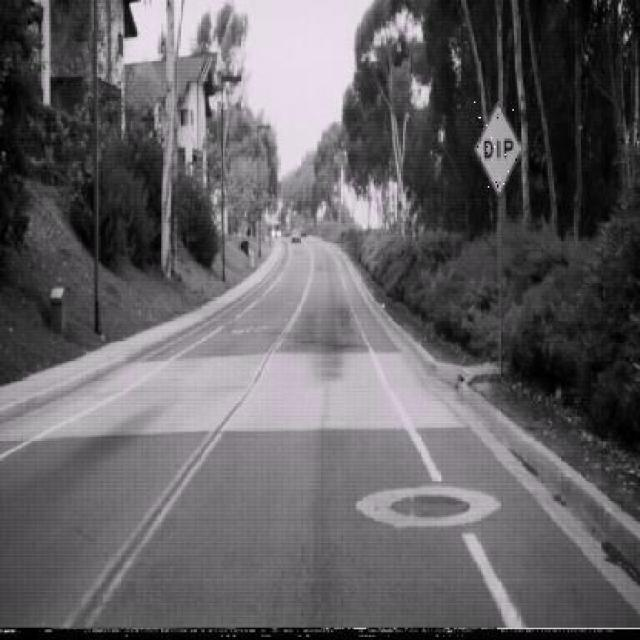dip: (474, 100, 523, 193)
